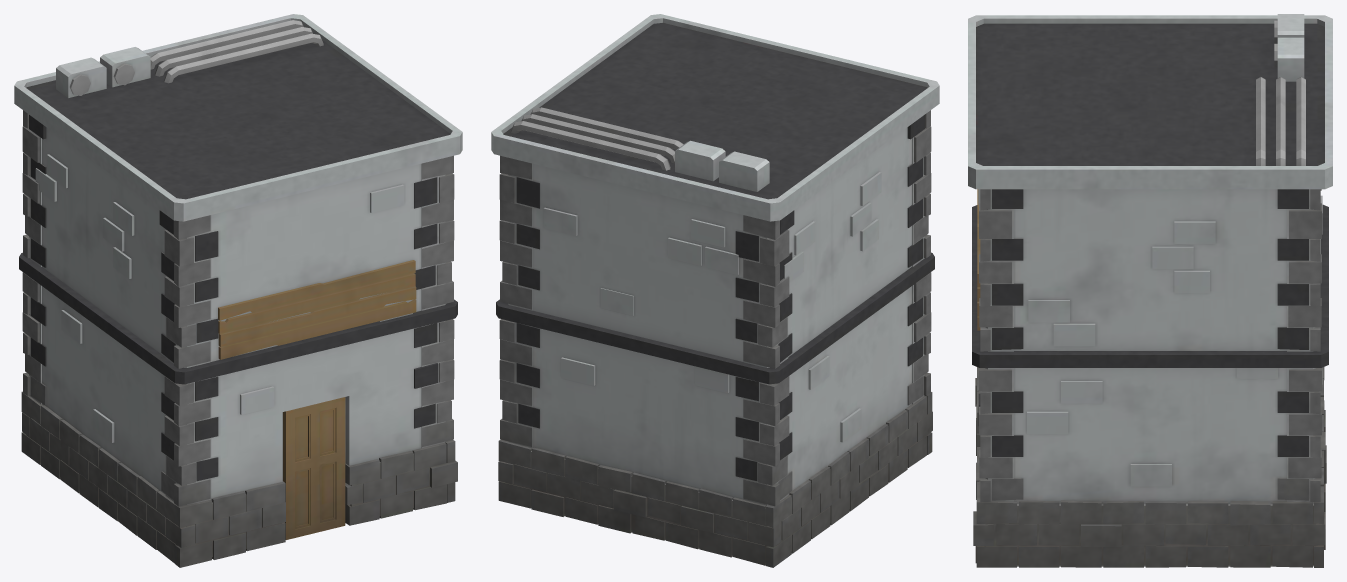
The model's file is building_2Story_Sign.glb.
3 views of the same model, side by side, from view 1: azimuth 30°, elevation 25°; view 2: azimuth 150°, elevation 25°; view 3: azimuth 270°, elevation 25° (orthographic). The views are drawn at different scales.
Visible parts, largest first — view 1: 2Story_Sign_high; view 2: 2Story_Sign_high; view 3: 2Story_Sign_high.
Boxes of the visible parts, x1=… form: 2Story_Sign_high: x1=14, y1=14, x2=462, y2=567; 2Story_Sign_high: x1=491, y1=14, x2=939, y2=567; 2Story_Sign_high: x1=968, y1=14, x2=1332, y2=567.
Size of the model in its own units: 2.15 by 2.76 by 2.15.
1 material, 1 textured.
